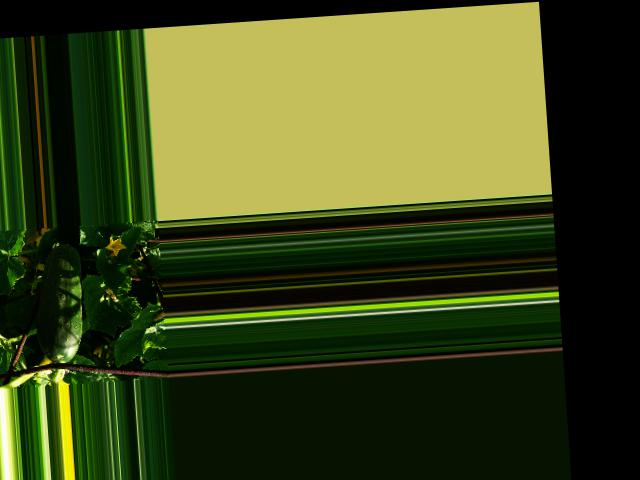cucumber: (29, 242, 87, 364)
